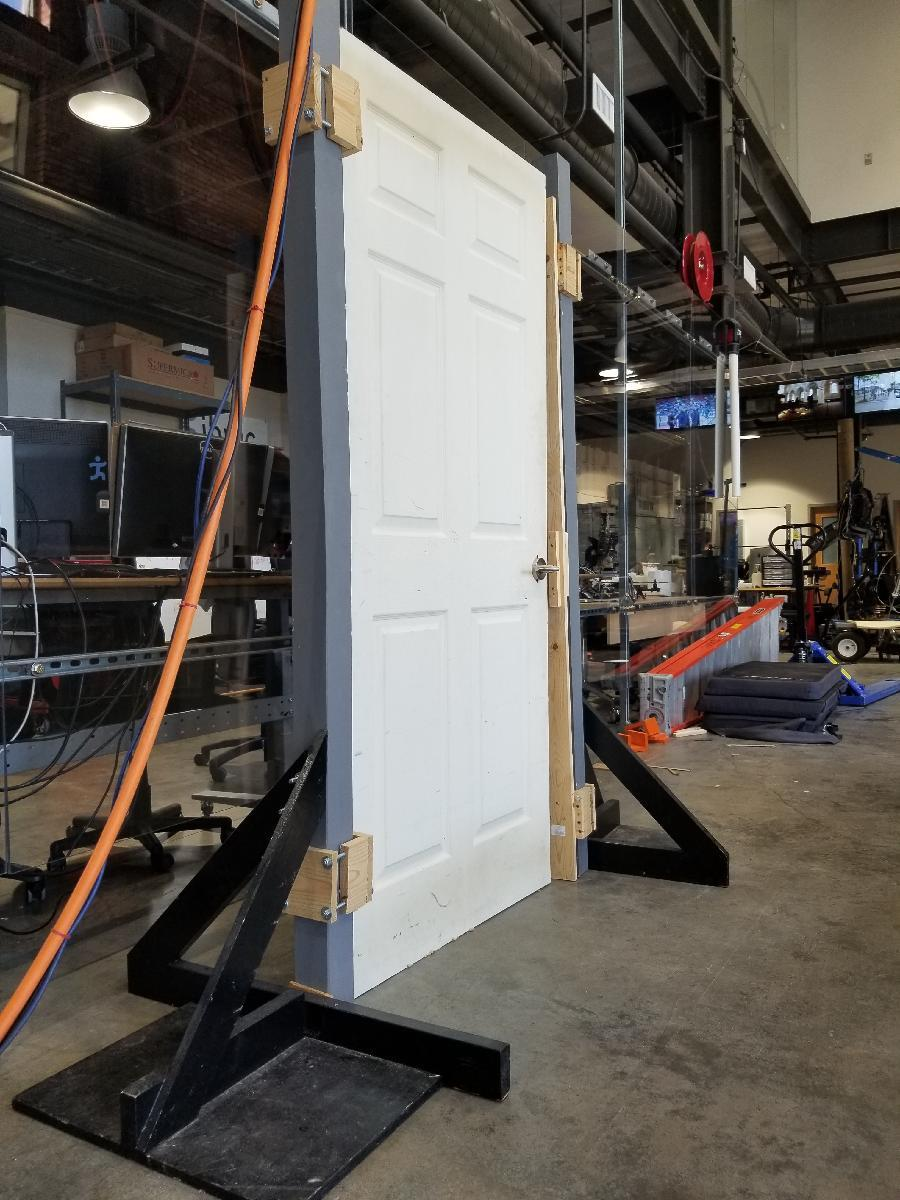door: (338, 78, 562, 925)
handle: (516, 550, 560, 582)
